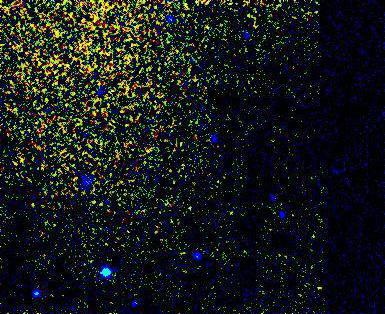star: (80, 189, 110, 219)
